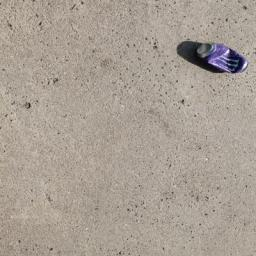FOD: (176, 36, 251, 79)
